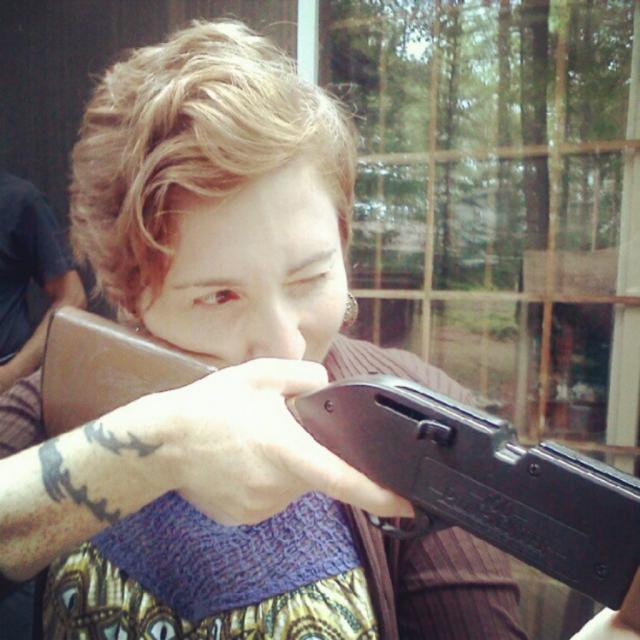weapon: (78, 367, 612, 596)
